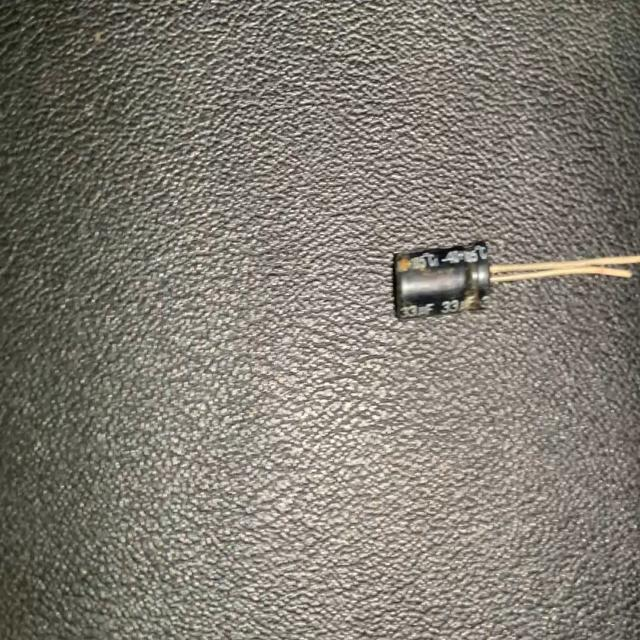capacitor: (391, 237, 640, 327)
rust: (464, 252, 484, 320), (394, 249, 422, 279)
